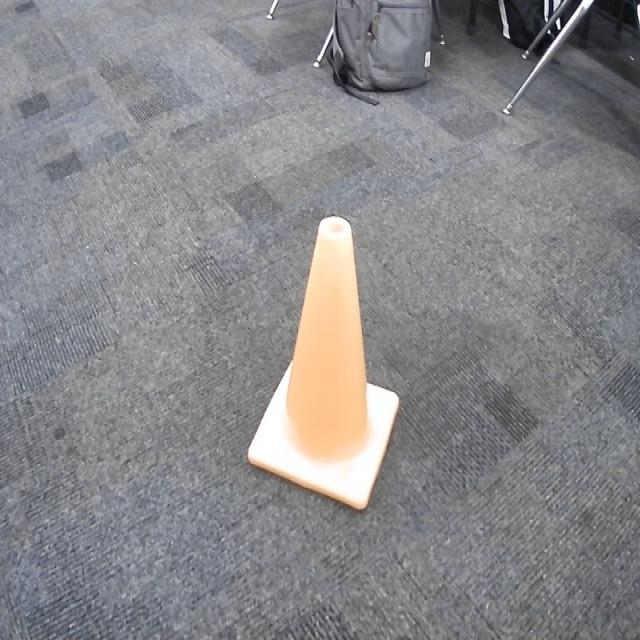cone: (245, 215, 399, 517)
